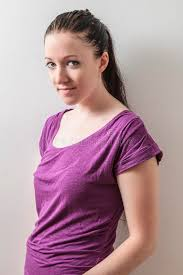person: (42, 8, 110, 107)
